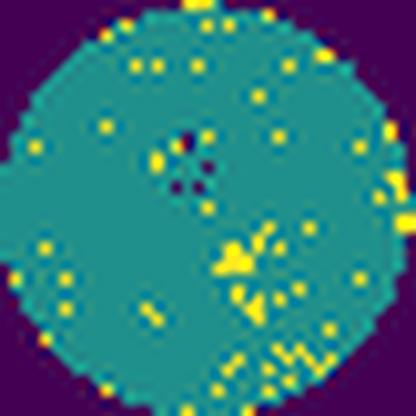Edge-Loc: (209, 215, 278, 277), (230, 283, 264, 324)
